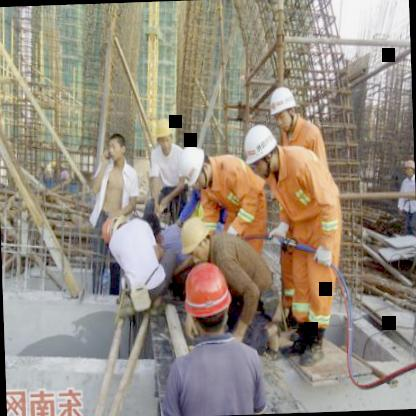head: (106, 129, 130, 163)
helmet: (178, 257, 234, 341), (240, 119, 282, 183), (174, 140, 209, 194), (266, 82, 301, 135), (178, 216, 214, 267), (148, 110, 180, 157), (96, 210, 124, 246), (395, 151, 415, 186)
